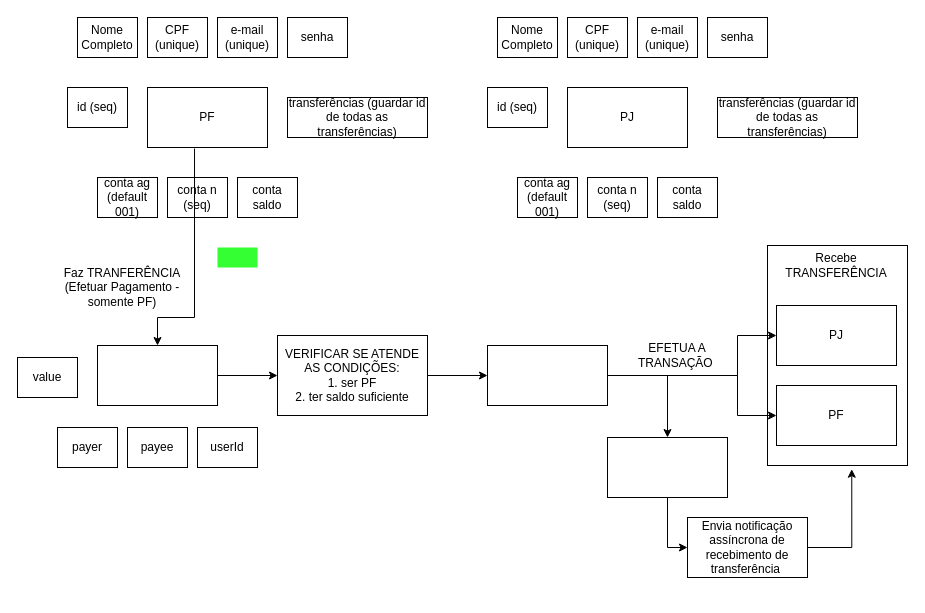
Some shapes in this 925 by 613 pixel diagram are drawn without their labels. Here are the shapes that lost their labels. From the top down, the centre of each, then its label:
At point (237, 257): "1:N".
At point (157, 375): "transferência".
At point (547, 375): "VERIFICAR Autorização de servidor externo".
At point (667, 467): "Solicita mensagem de confirmação de servidor externo".
